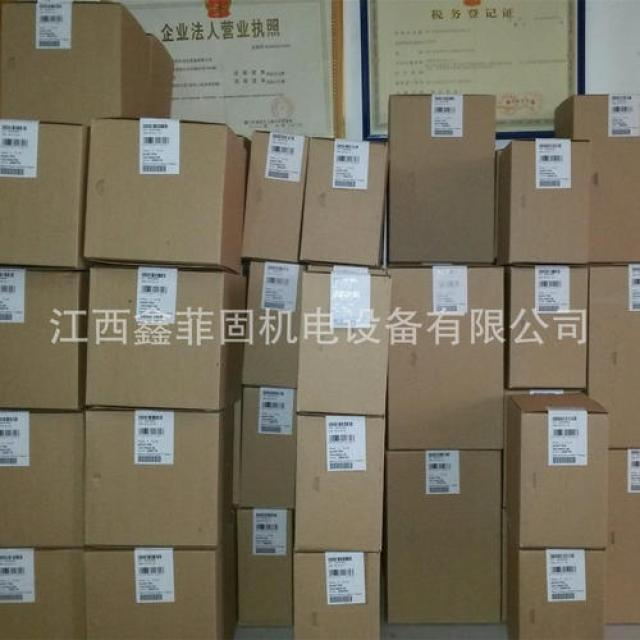box: (83, 116, 248, 274), (80, 265, 247, 410), (84, 403, 236, 552), (385, 267, 506, 448), (82, 508, 239, 637), (388, 446, 502, 621), (1, 2, 149, 126), (388, 96, 495, 264), (508, 390, 607, 548), (295, 266, 394, 417), (0, 122, 91, 271), (293, 412, 384, 551), (0, 264, 85, 411), (0, 404, 85, 547), (505, 524, 605, 639), (300, 136, 387, 268), (495, 140, 589, 262), (585, 262, 639, 448), (508, 265, 587, 387), (243, 129, 310, 260), (239, 262, 307, 390), (231, 385, 296, 509), (1, 546, 84, 639), (293, 551, 380, 637), (237, 507, 293, 625), (587, 135, 639, 262), (605, 448, 639, 621), (145, 31, 177, 118), (553, 94, 610, 138), (232, 131, 254, 159)
